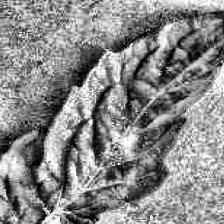Anthracnose Fruit Rot: (110, 126, 149, 161), (0, 150, 29, 182), (189, 46, 221, 75)
